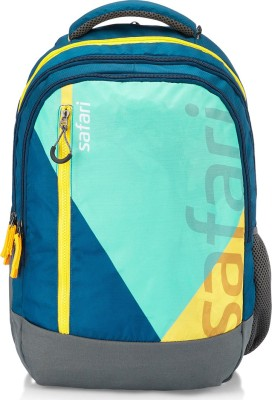backpack: (1, 0, 271, 390)
